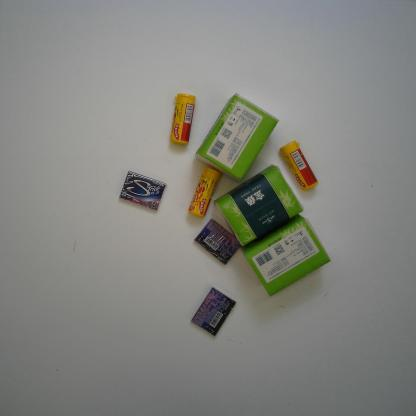Candy: (279, 138, 320, 195), (188, 166, 222, 219), (169, 92, 197, 147)
Gum: (189, 286, 239, 338), (191, 217, 243, 265), (118, 169, 169, 212)
Tissue: (238, 210, 333, 300), (212, 162, 308, 249), (193, 92, 281, 184)
